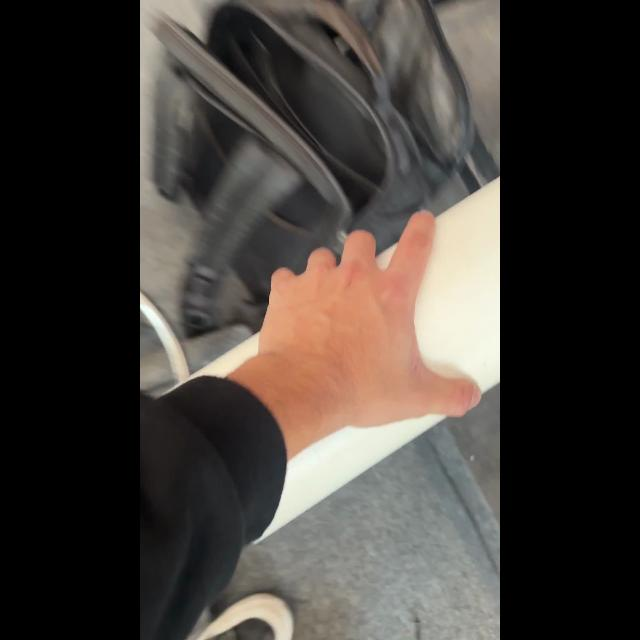CORAL: (166, 173, 498, 544)
